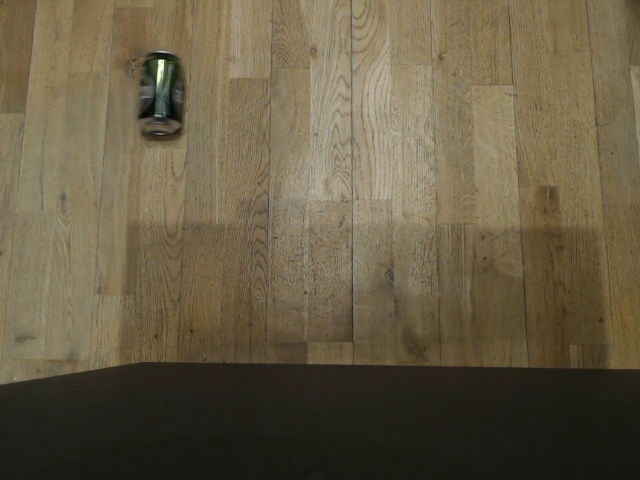beer: (131, 48, 189, 142)
